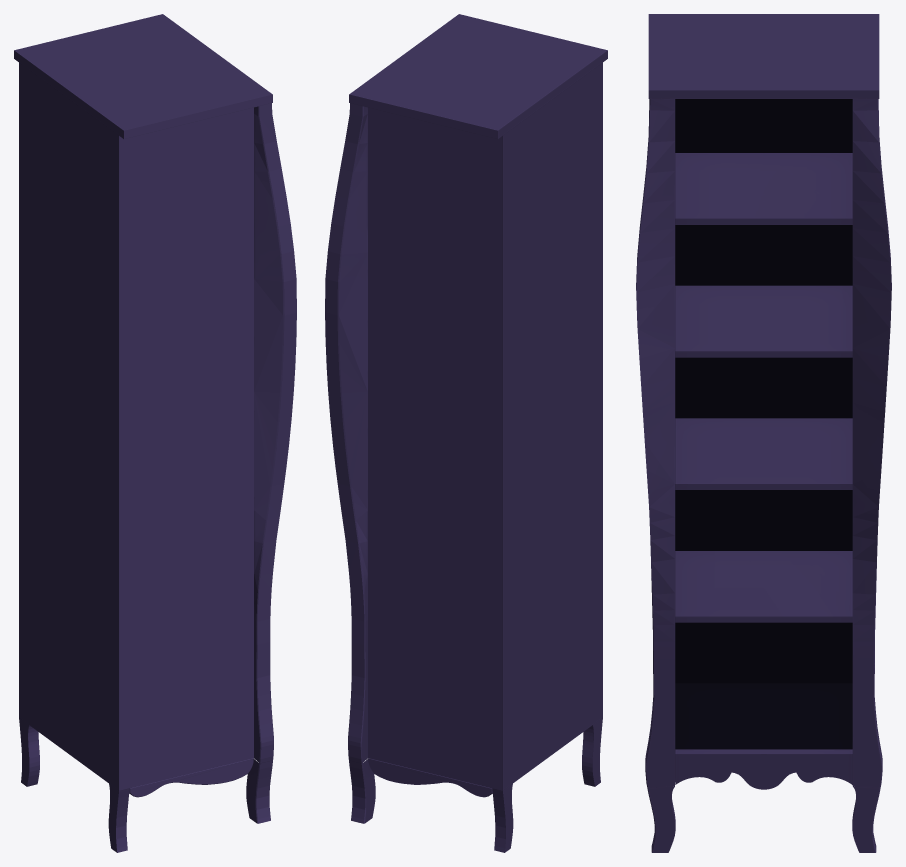
The model's file is Cabinet_Shelf_Desk_3c9038e7-2fa2-4e2c-8952-d50b7646f088_2.glb.
The picture shows the model from 3 angles, left to right: view 1: azimuth 30°, elevation 25°; view 2: azimuth 150°, elevation 25°; view 3: azimuth 270°, elevation 25°; orthographic projection. The views are drawn at different scales.
Parts seen in each view (by area): view 1: Cabinet_Shelf_Desk_3c9038e7-2fa2-4e2c-8952-d50b7646f088_2.ob; view 2: Cabinet_Shelf_Desk_3c9038e7-2fa2-4e2c-8952-d50b7646f088_2.ob; view 3: Cabinet_Shelf_Desk_3c9038e7-2fa2-4e2c-8952-d50b7646f088_2.ob.
Boxes of the visible parts, bbox=[...] form: Cabinet_Shelf_Desk_3c9038e7-2fa2-4e2c-8952-d50b7646f088_2.ob: bbox=[14, 14, 296, 852]; Cabinet_Shelf_Desk_3c9038e7-2fa2-4e2c-8952-d50b7646f088_2.ob: bbox=[325, 14, 607, 852]; Cabinet_Shelf_Desk_3c9038e7-2fa2-4e2c-8952-d50b7646f088_2.ob: bbox=[636, 14, 891, 852].
Bounding box in the file's own units: 0.2411 × 0.9969 × 0.3032.
Materials: 1 (1 with a texture image).
